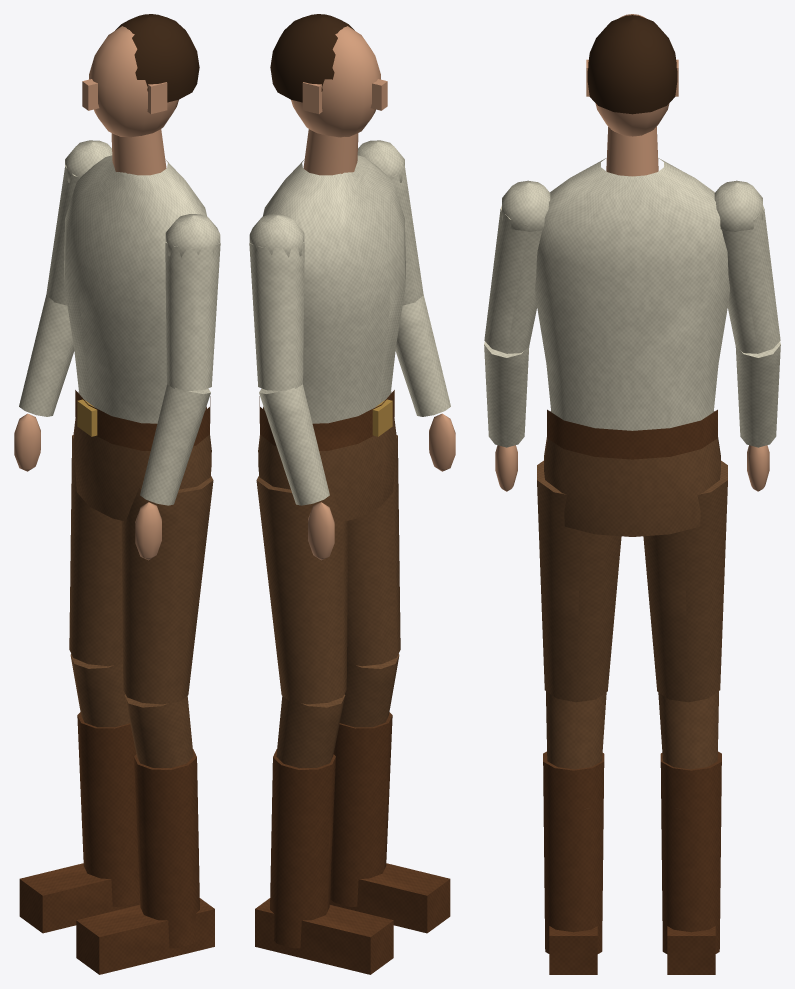
The model's file is SM_Art_Figure_youth.gltf.
3 renders of one model, left to right at view 1: azimuth 30°, elevation 25°; view 2: azimuth 150°, elevation 25°; view 3: azimuth 270°, elevation 25°, orthographic. The views are drawn at different scales.
Parts seen in each view (by area): view 1: SM_Art_Figure_youth; view 2: SM_Art_Figure_youth; view 3: SM_Art_Figure_youth.
Part boxes in pixels (<box>): SM_Art_Figure_youth: <box>14,14,220,974</box>; SM_Art_Figure_youth: <box>249,14,455,974</box>; SM_Art_Figure_youth: <box>484,14,780,974</box>.
Bounding box in the file's own units: 0.2747 × 1.71 × 0.4897.
Materials: 6 (3 with a texture image).
